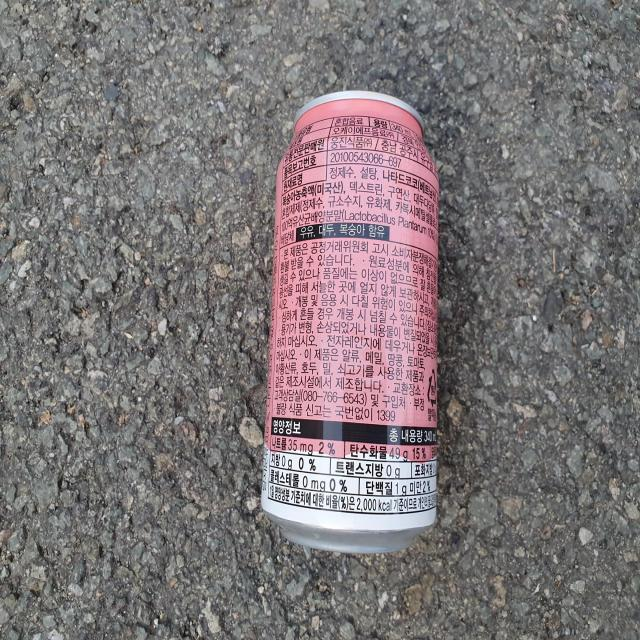can: (262, 90, 440, 553)
